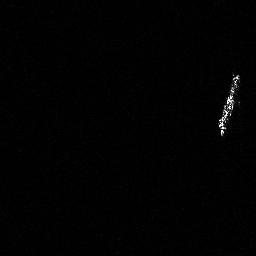ship: (213, 70, 243, 138)
